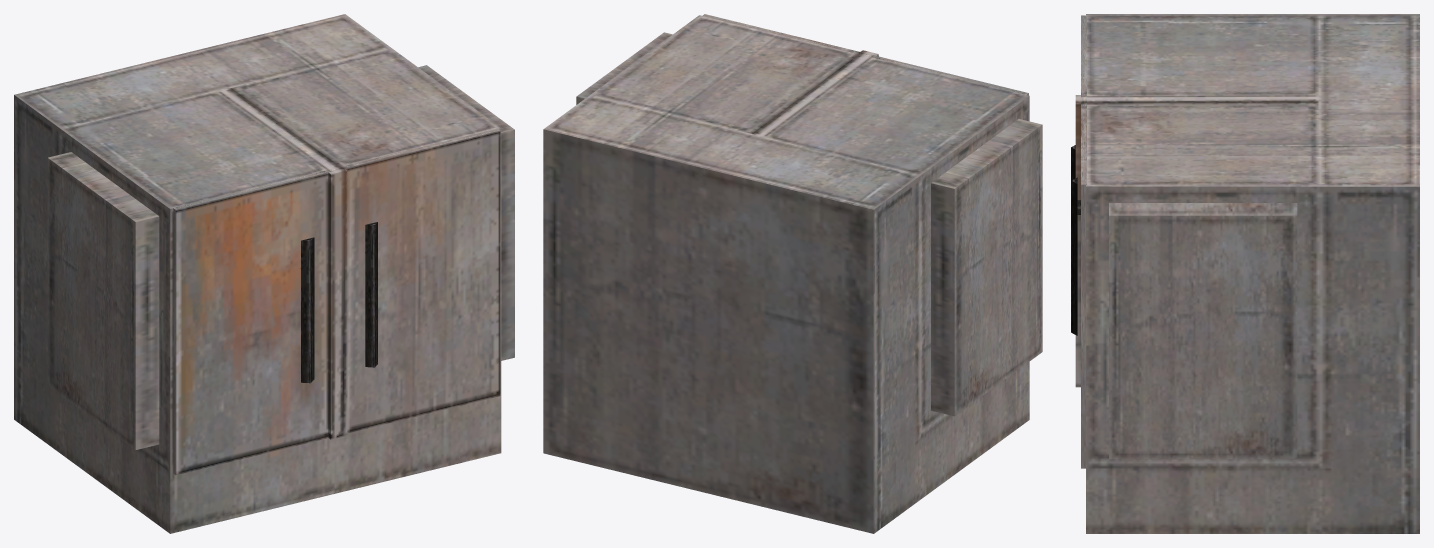
The model's file is frn_all_chep_chest_s01_l0.fbx.
3 renders of one model, left to right at view 1: azimuth 30°, elevation 25°; view 2: azimuth 150°, elevation 25°; view 3: azimuth 270°, elevation 25°, orthographic. The views are drawn at different scales.
Visible parts, largest first — view 1: mesh_node; view 2: mesh_node; view 3: mesh_node.
Boxes of the visible parts, x1,y1,x2,y2 form: mesh_node: [14, 14, 514, 533]; mesh_node: [543, 14, 1042, 533]; mesh_node: [1071, 14, 1419, 533].
Size of the model in its own units: 1.15 by 0.9382 by 0.8531.
Materials: 1 (1 with a texture image).
